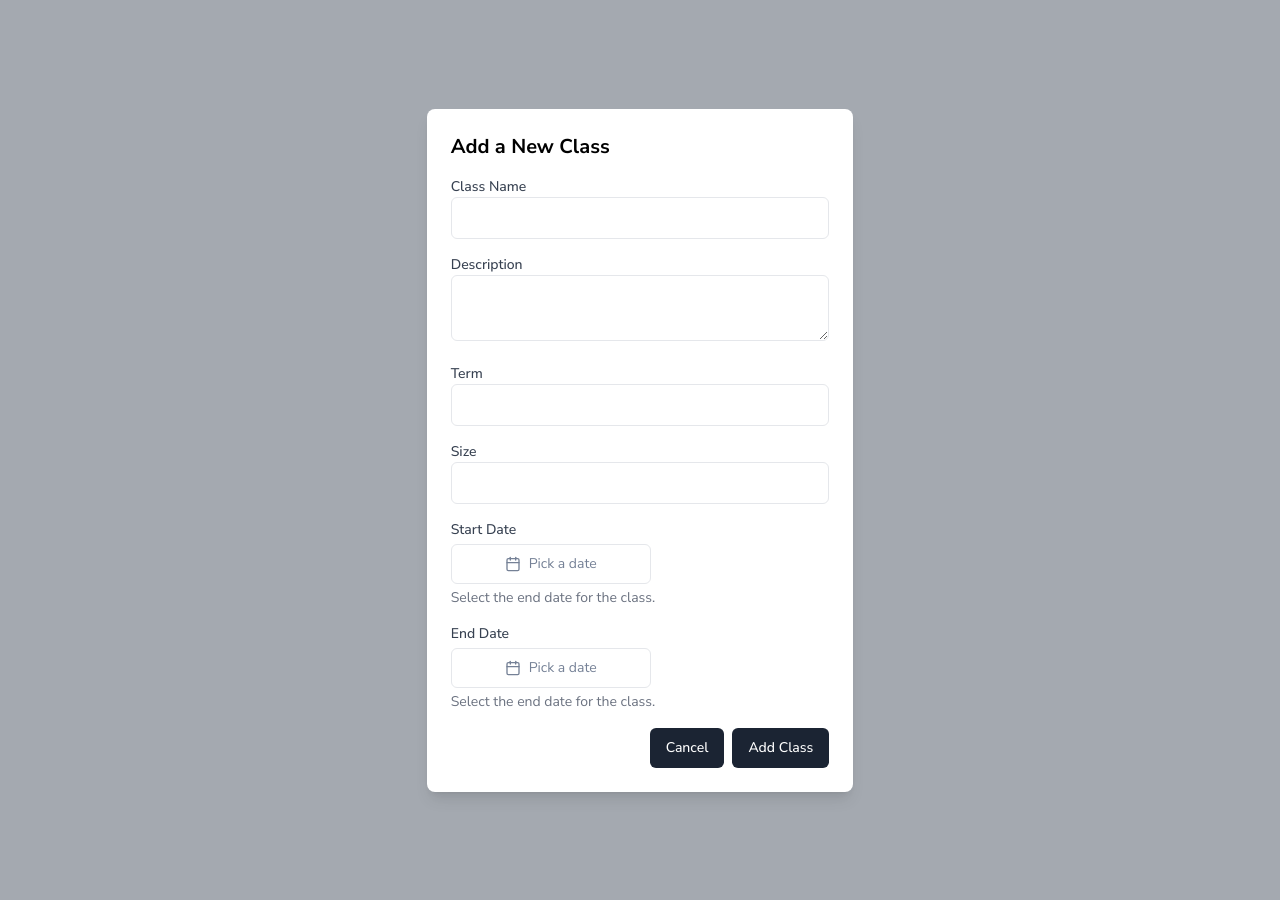
Test case: AddClassModal Component › shows error when startDate or endDate is not selected
In the field labelled "Class Name": (640, 218) [451, 196, 829, 238], type "Test Class"
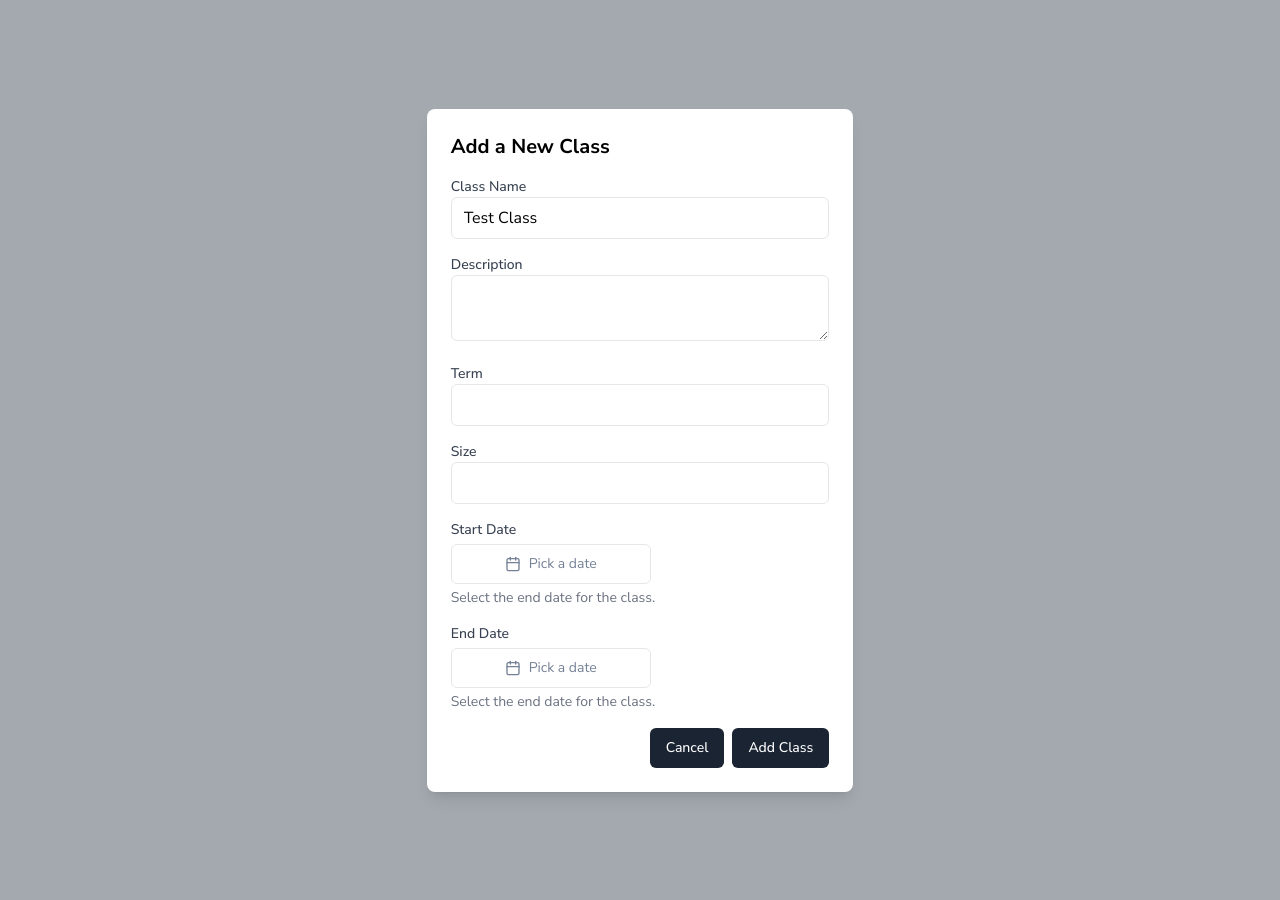
In the text box labelled "Description": (640, 308) [451, 274, 829, 340], type "Test Description"
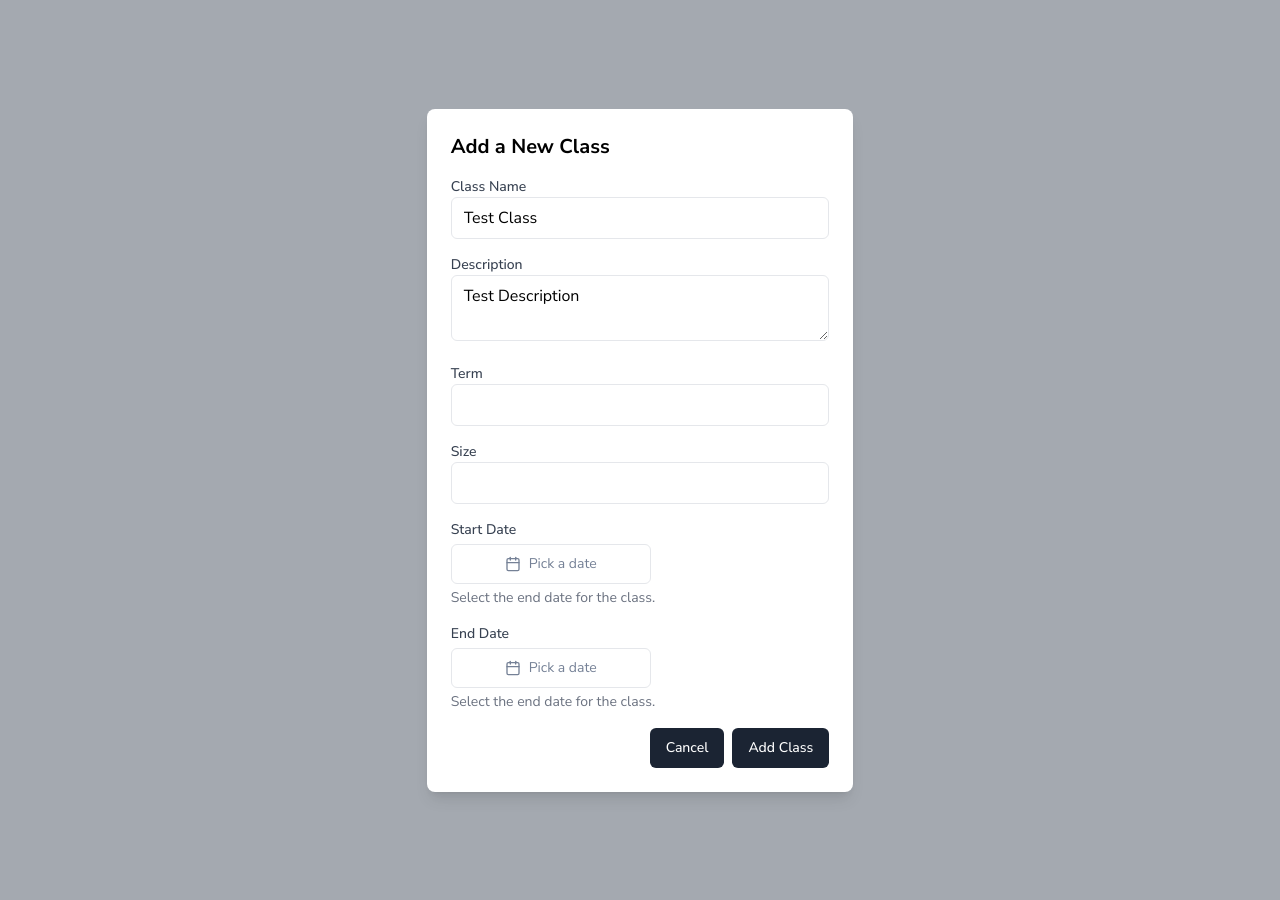
In the field labelled "Term": (640, 404) [451, 384, 829, 426], type "Fall 2023"
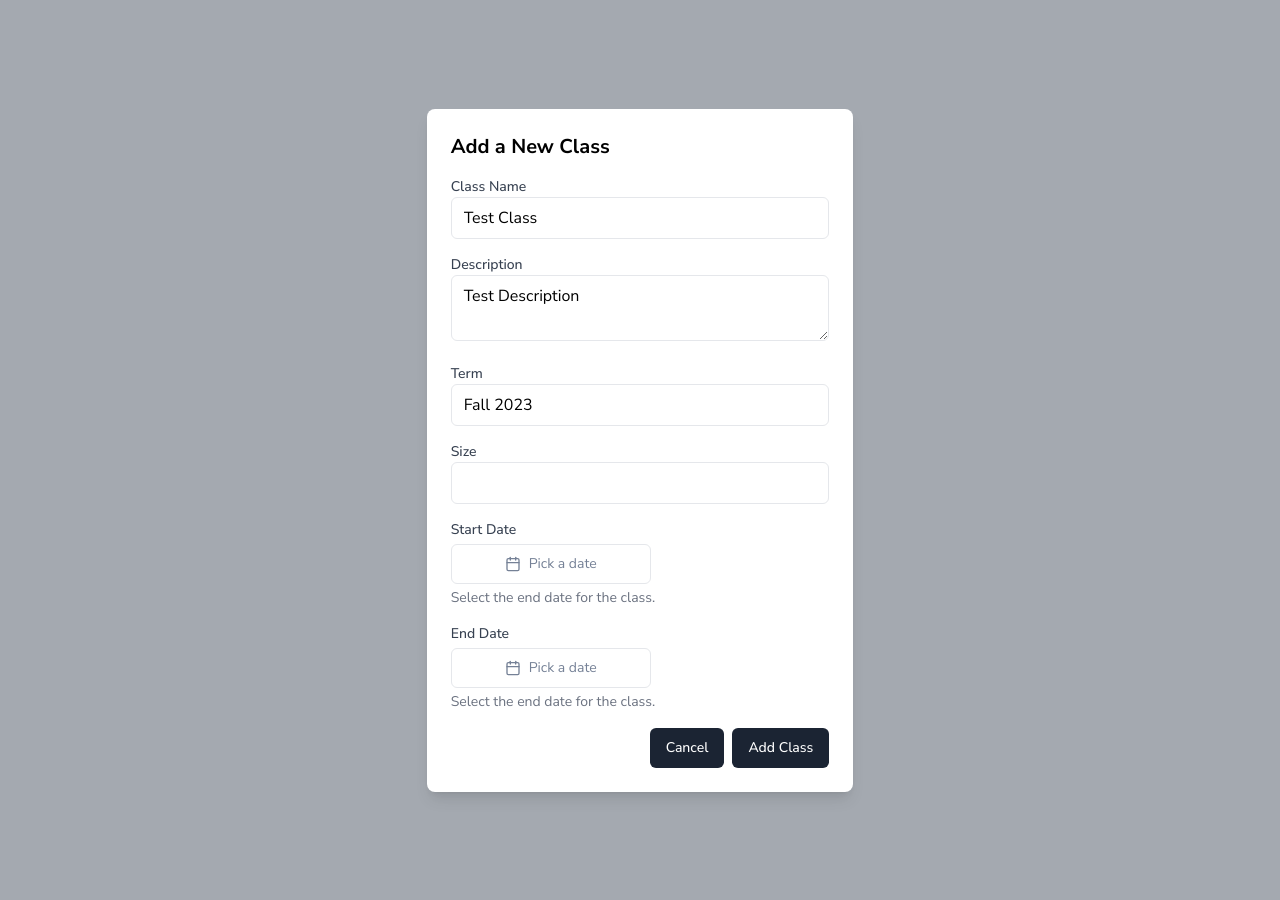
In the number field labelled "Size": (640, 482) [451, 462, 829, 504], type "30"
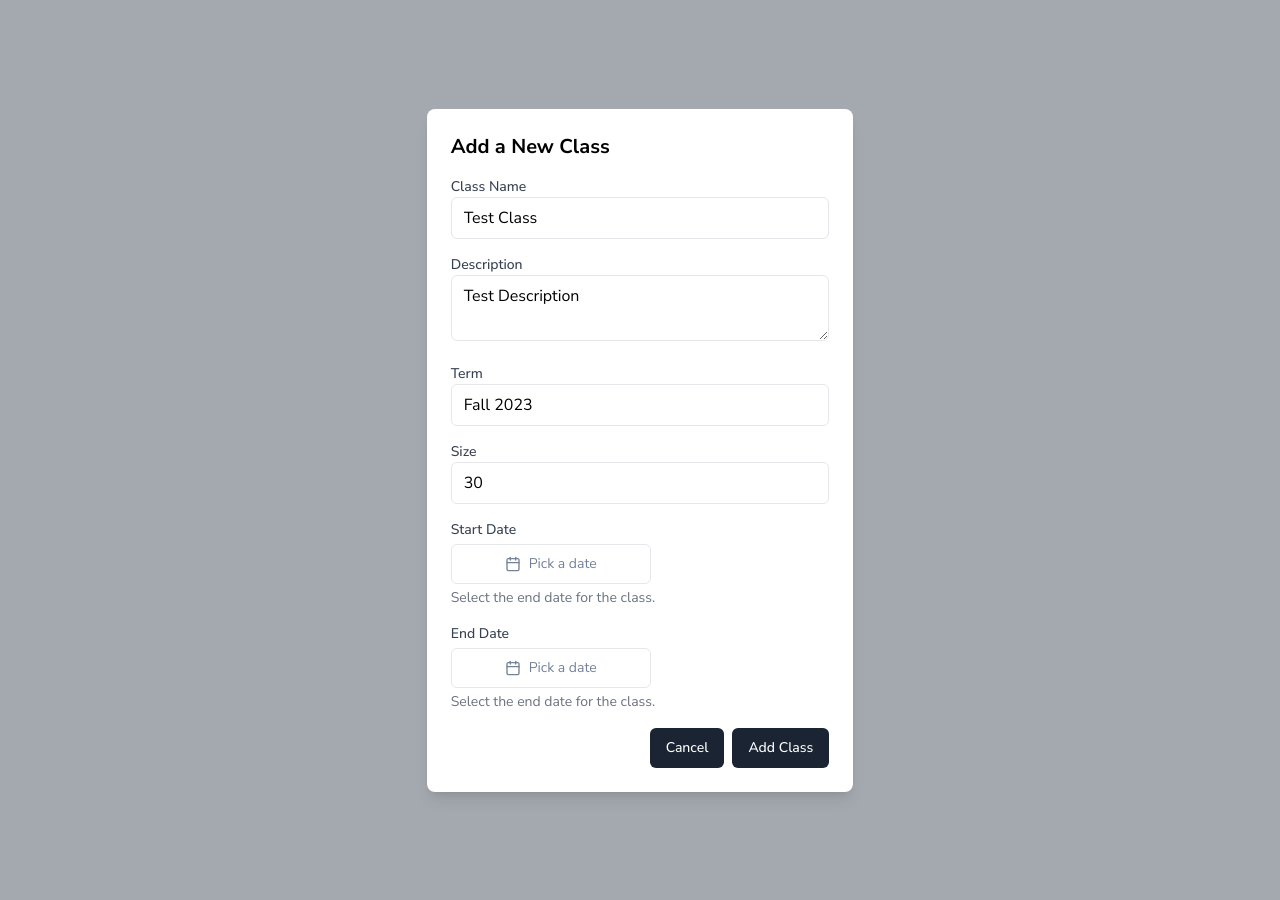
Submit the form from the button "Add Class", box [732, 728, 829, 768]
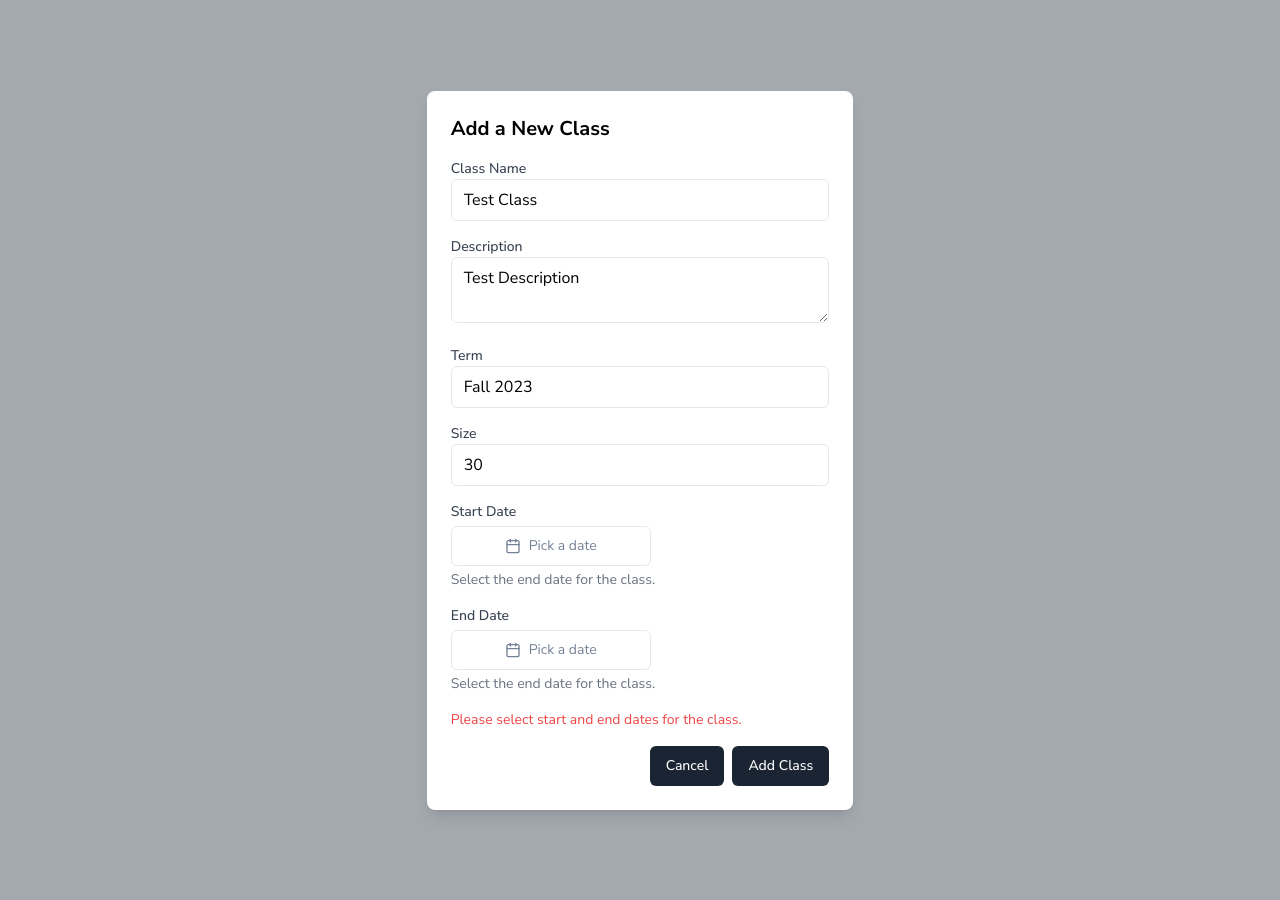
expect the text "Please select start and end dates for the class." is shown: met, box [451, 710, 742, 728]
